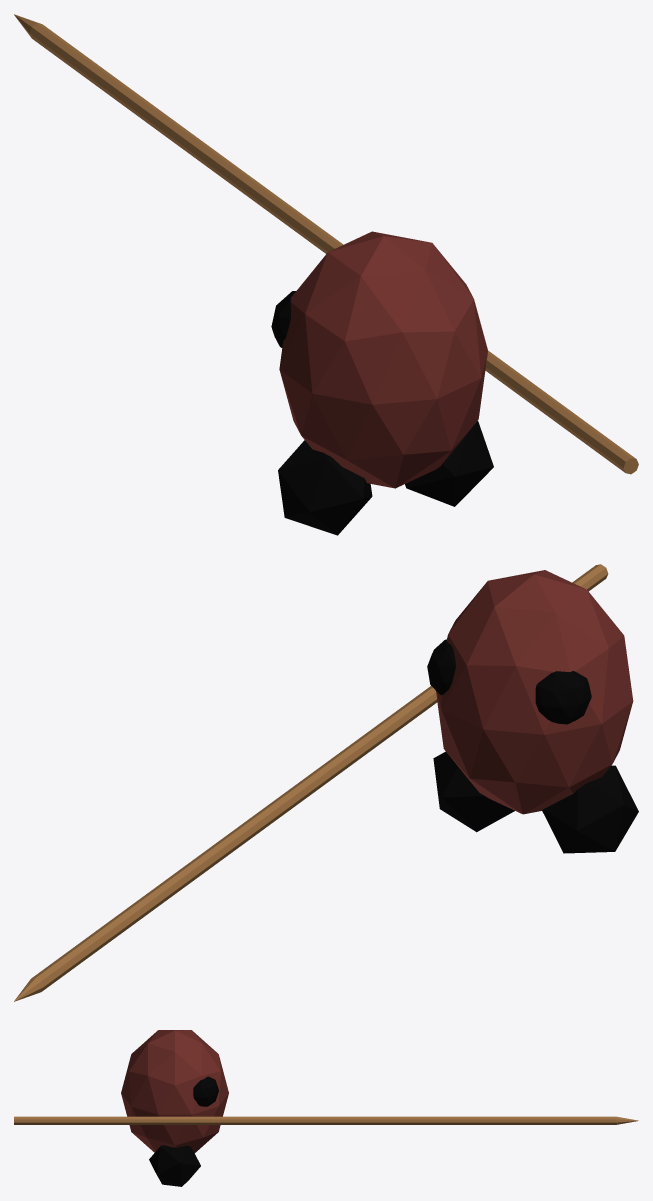
File: stab.f0017.glb
The picture shows the model from 3 angles, top to bottom: view 1: azimuth 30°, elevation 25°; view 2: azimuth 150°, elevation 25°; view 3: azimuth 270°, elevation 25°; orthographic projection. The views are drawn at different scales.
Parts seen in each view (by area): view 1: Body.001; view 2: Body.001; view 3: Body.001.
Part boxes in pixels (box(x1,y1,x2,y2)): Body.001: box(14, 14, 638, 535); Body.001: box(14, 564, 638, 1001); Body.001: box(14, 1030, 638, 1186).
Size of the model in its own units: 2.17 by 2.85 by 11.56.
1 material, 1 textured.
